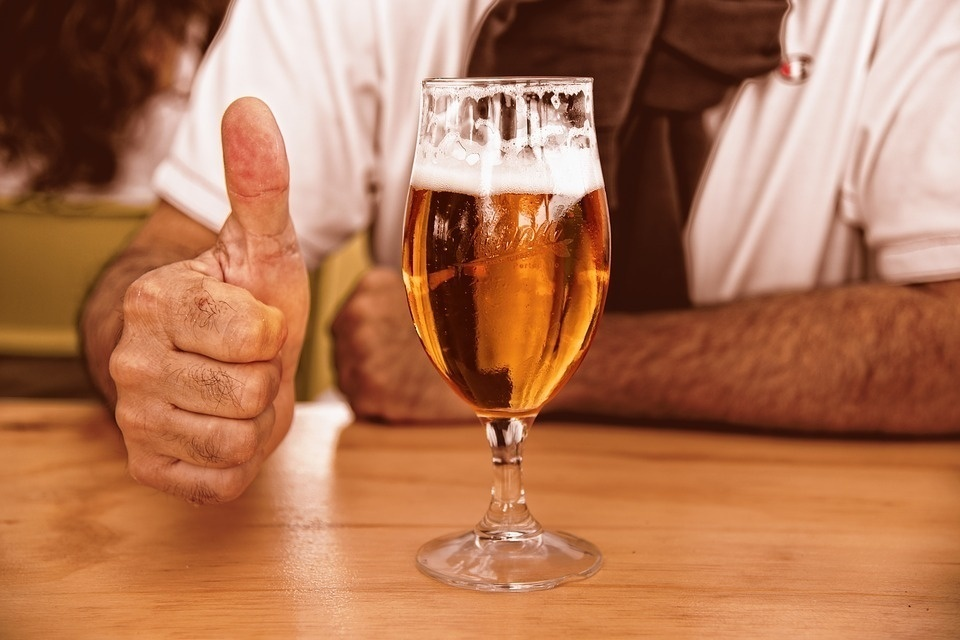whiskey: (405, 78, 613, 457)
